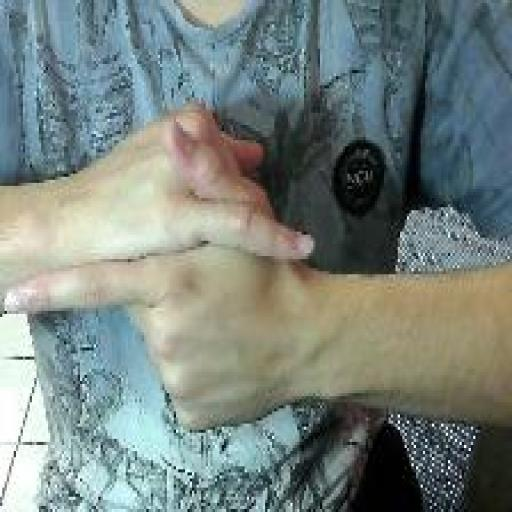U -hare-: (2, 96, 318, 437)
